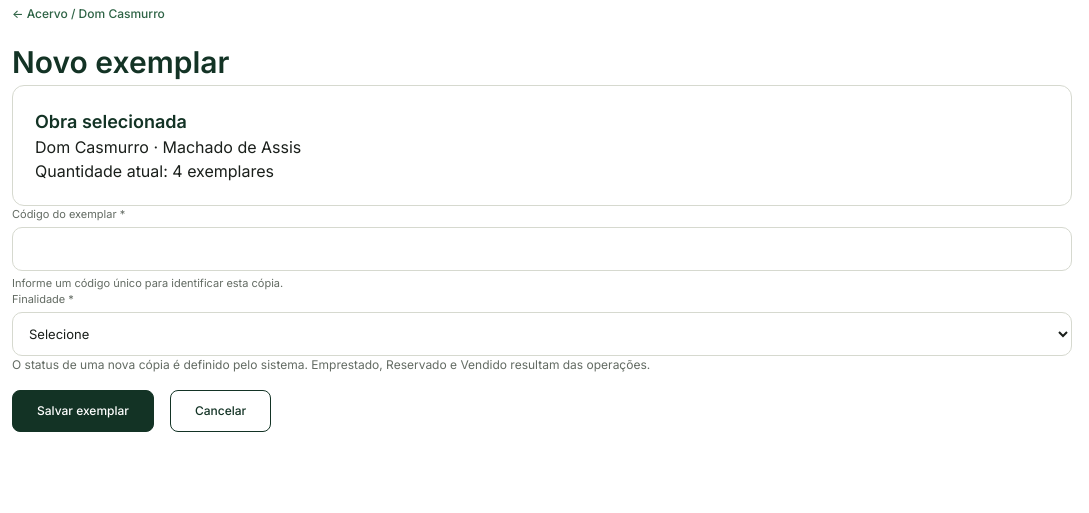
Scenario: Balcão: novo exemplar › envia o preço de venda com vírgula normalizada
Step 1. Type "00106" into the field with id "copy-barcode" → (542,248), box [12, 226, 1072, 270]
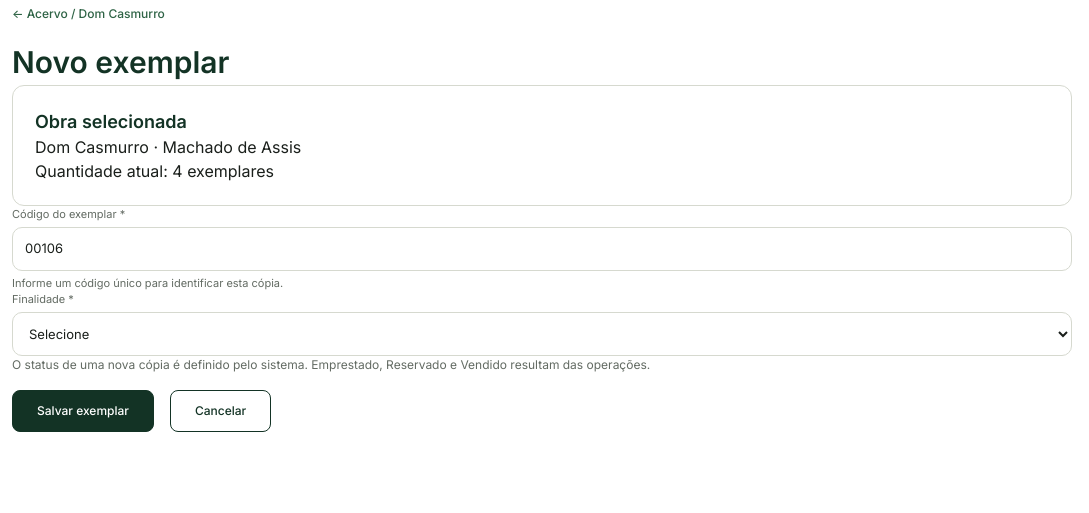
Step 2. Select "Venda" in the dropdown with id "copy-destination" → (542,334), box [12, 312, 1072, 356]
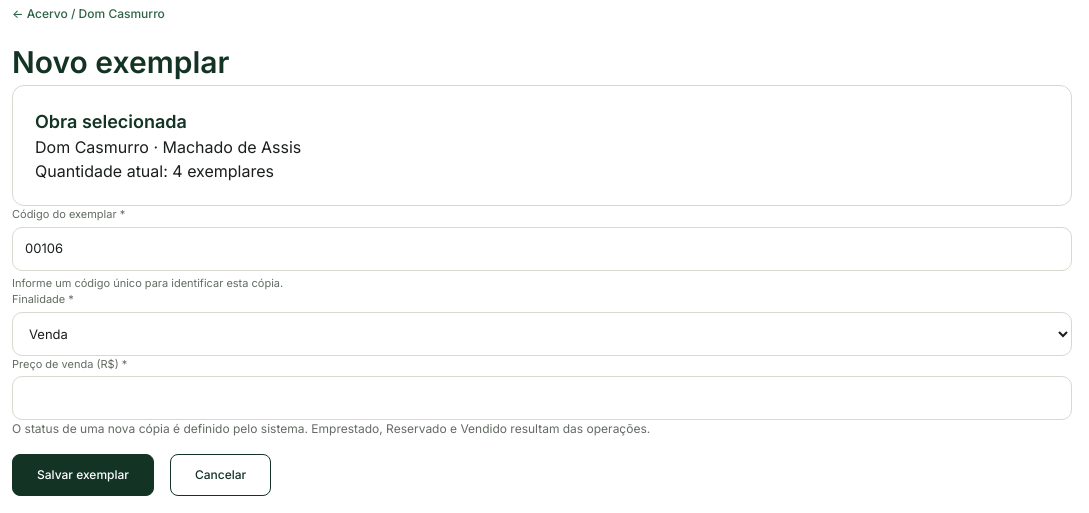
Step 3. Type "39,90" into the field with id "copy-price" → (542,398), box [12, 376, 1072, 420]
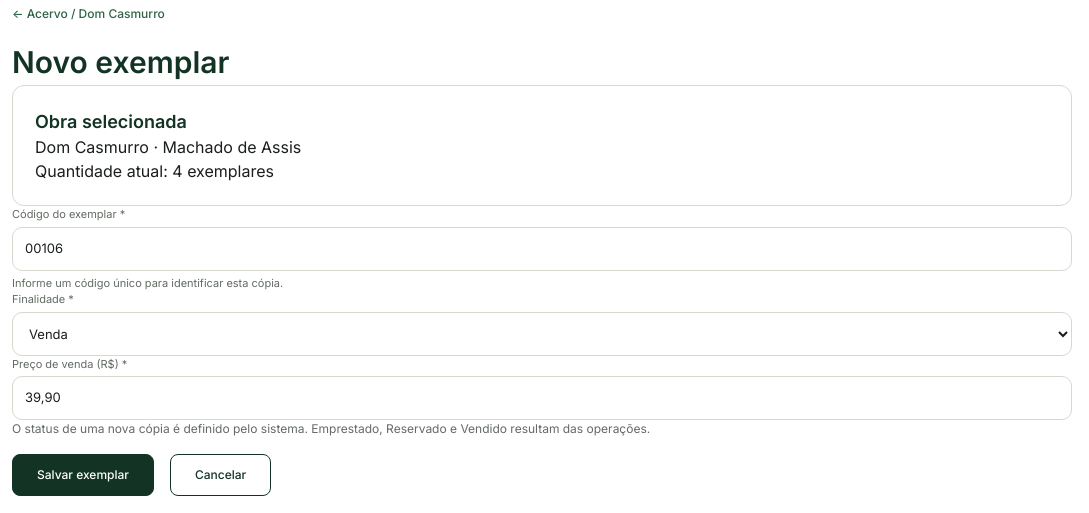
Step 4. Click the submit button → (83,475), box [12, 454, 154, 496]
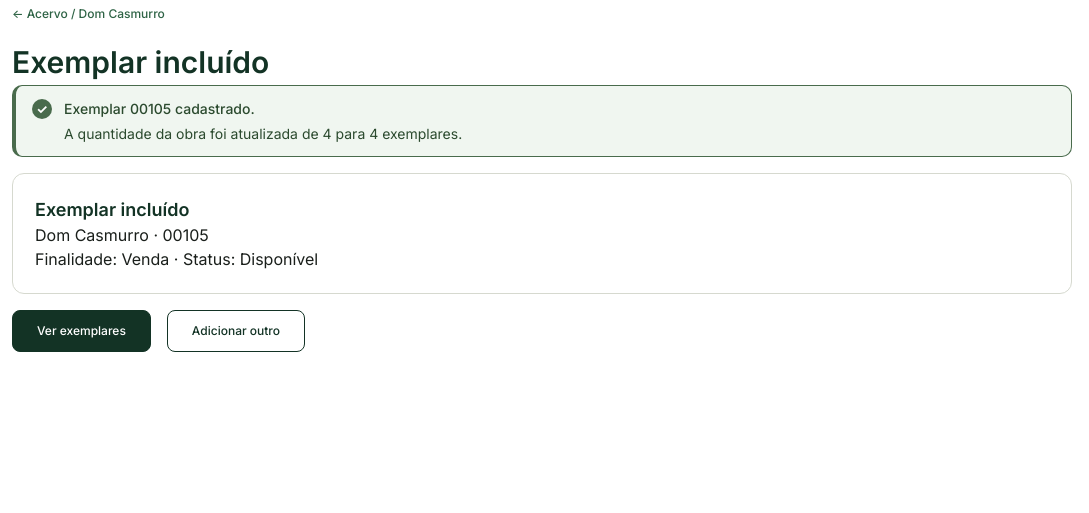
Expected: the text "Finalidade: Venda" is shown, [35, 249, 318, 269]
